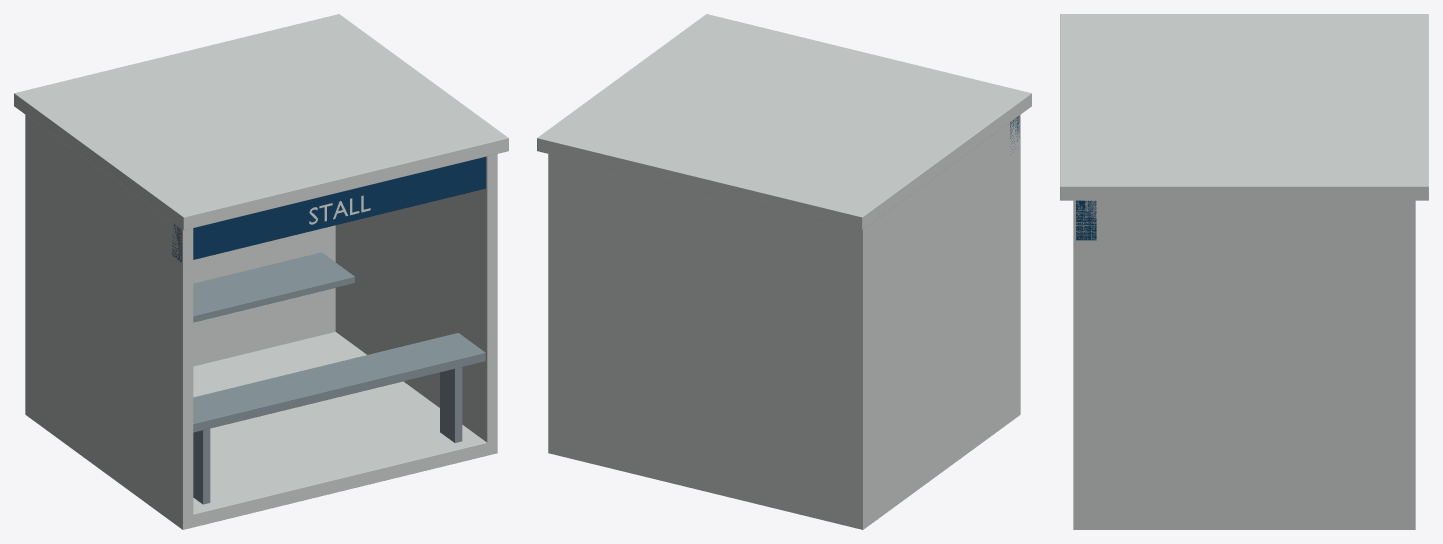
Rendered from edited.glb.
The picture shows the model from 3 angles, left to right: view 1: azimuth 30°, elevation 25°; view 2: azimuth 150°, elevation 25°; view 3: azimuth 270°, elevation 25°; orthographic projection. The views are drawn at different scales.
Visible parts, largest first — view 1: ROOF, SIDE_Wall, FLOOR, SIDE_Wall.001, SERVICE_Counter, REAR_Wall, HEADER, BACK_Worktop, COUNTER_Leg, COUNTER_Leg.001; view 2: REAR_Wall, ROOF, SIDE_Wall, FLOOR, SIDE_Wall.001; view 3: SIDE_Wall.001, ROOF, FLOOR, HEADER.
Boxes of the visible parts, x1,y1,x2,y2 form: ROOF: (14, 14, 508, 230); SIDE_Wall: (25, 115, 193, 522); FLOOR: (25, 332, 497, 529); SIDE_Wall.001: (335, 154, 497, 442); SERVICE_Counter: (193, 333, 485, 432); REAR_Wall: (193, 225, 335, 366); HEADER: (172, 156, 485, 262); BACK_Worktop: (193, 252, 354, 322); COUNTER_Leg: (440, 367, 462, 442); COUNTER_Leg.001: (193, 428, 210, 504); REAR_Wall: (553, 155, 857, 515); ROOF: (537, 14, 1031, 230); SIDE_Wall: (853, 115, 1020, 522); FLOOR: (548, 403, 1020, 529); SIDE_Wall.001: (548, 154, 558, 448); SIDE_Wall.001: (1073, 200, 1415, 522); ROOF: (1060, 14, 1428, 200); FLOOR: (1073, 516, 1415, 529); HEADER: (1076, 200, 1096, 240).
Size of the model in its own units: 3.1 by 2.9 by 2.8.
